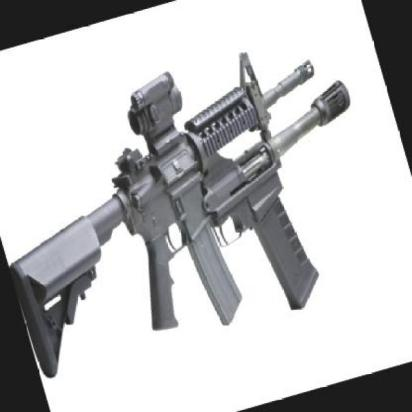Gun: (0, 0, 405, 409)
